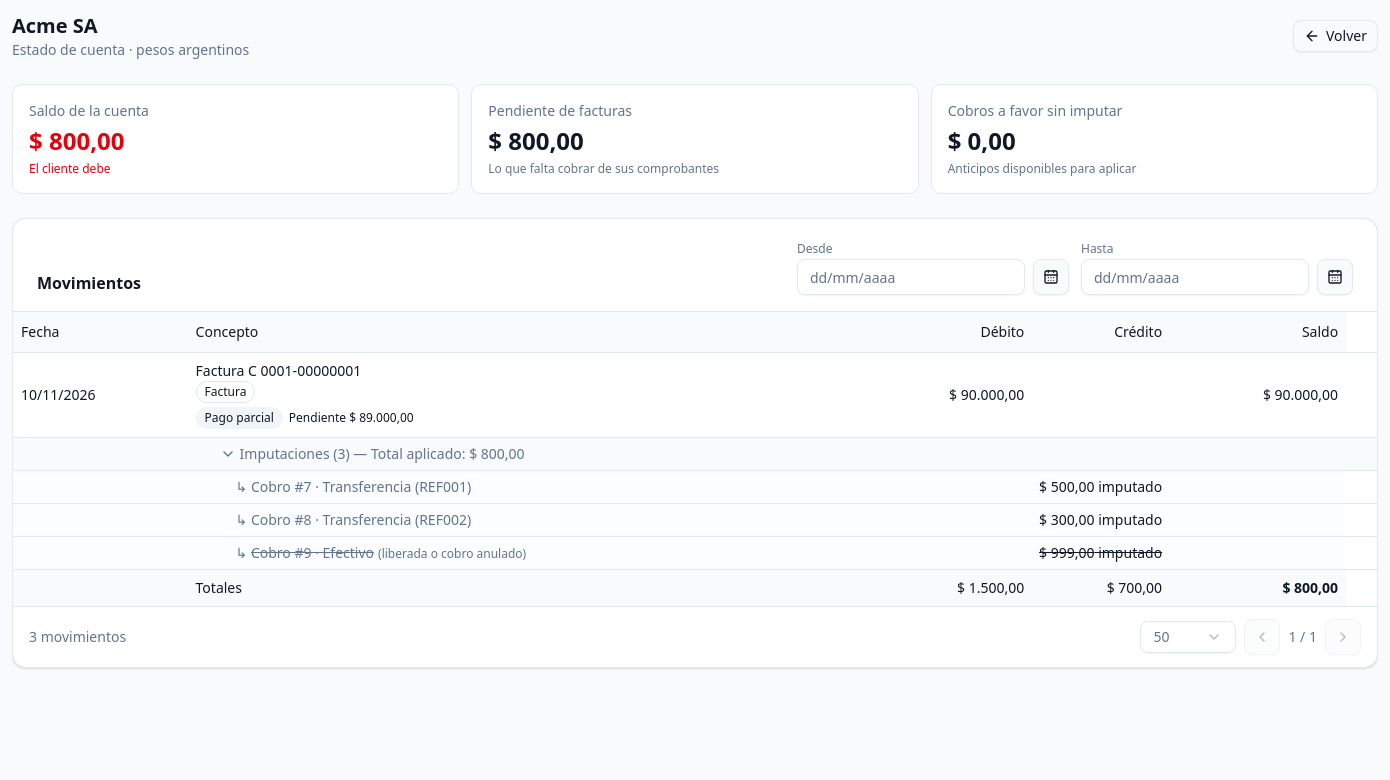
Test: Estado de cuenta del cliente › el encabezado contrae y vuelve a mostrar las imputaciones
This screenshot has width=1390, height=780.
Expected: the number of rows with test id "allocation-row" is 3, [13,470,1377,503]; [13,503,1377,536]; [13,536,1377,569]
What coordinates should you click on to do the following:
click the button with aria-label "Imputaciones de"
I would click on:
 (372, 454)
Its box is [220,444,525,464].
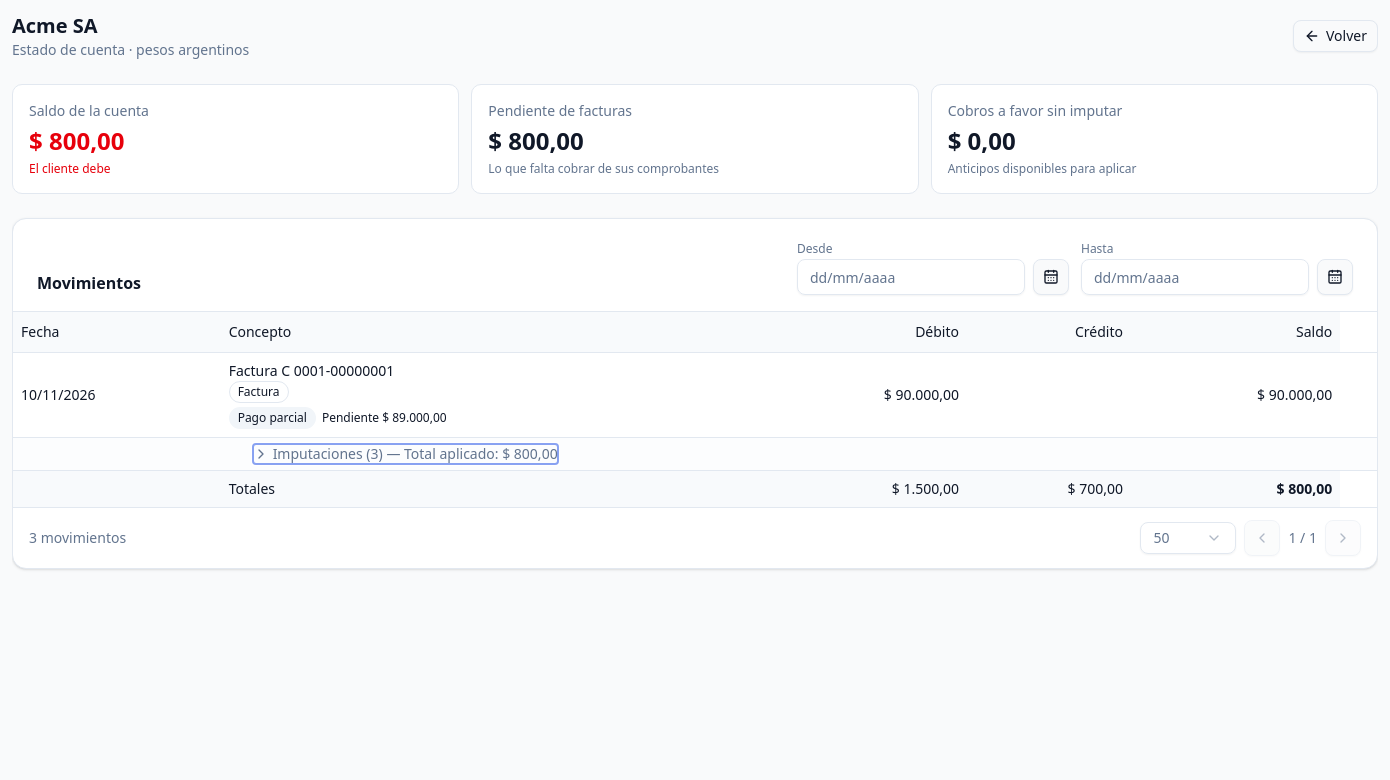
Result: no rows with test id "allocation-row" are shown
Result: the button with aria-label "Imputaciones de" is collapsed
What coordinates should you click on to do the following:
click the button with aria-label "Imputaciones de"
I would click on:
 (405, 454)
Its box is [253,444,558,464].
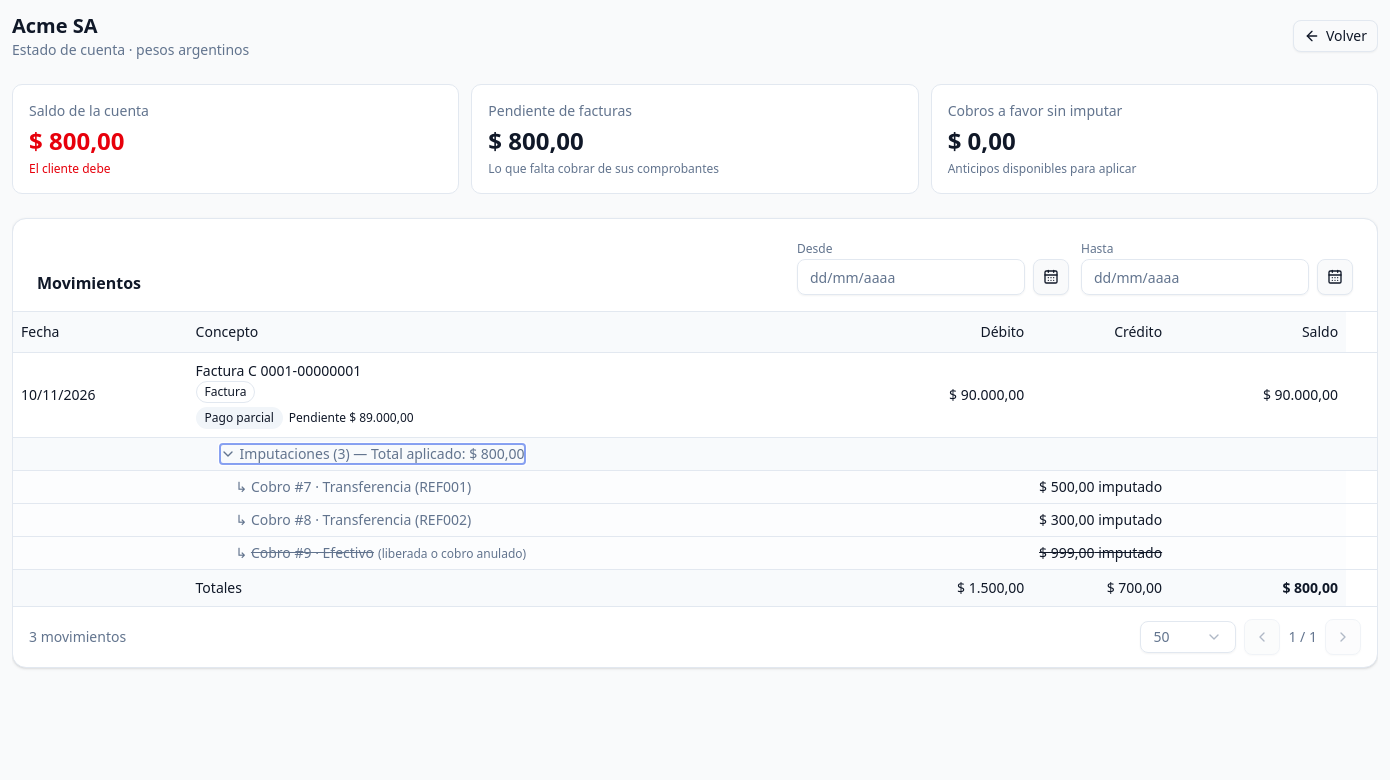
Result: the number of rows with test id "allocation-row" is 3 at [13,470,1377,503]; [13,503,1377,536]; [13,536,1377,569]
